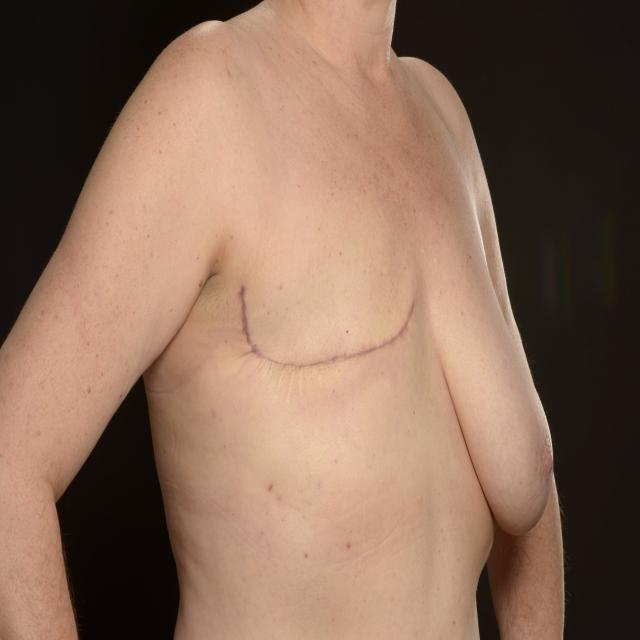wound: (236, 278, 418, 372)
